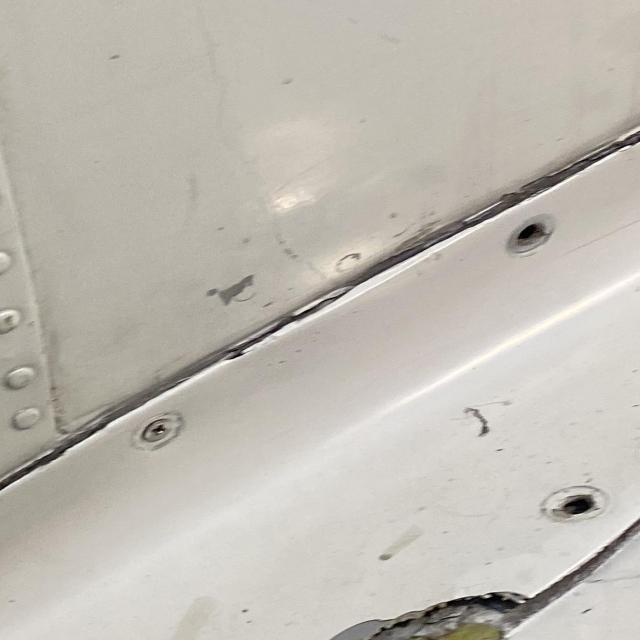Crack: (370, 594, 529, 640)
Missing-head: (545, 486, 610, 523), (509, 215, 559, 254)
Paint-off: (208, 275, 257, 305)
